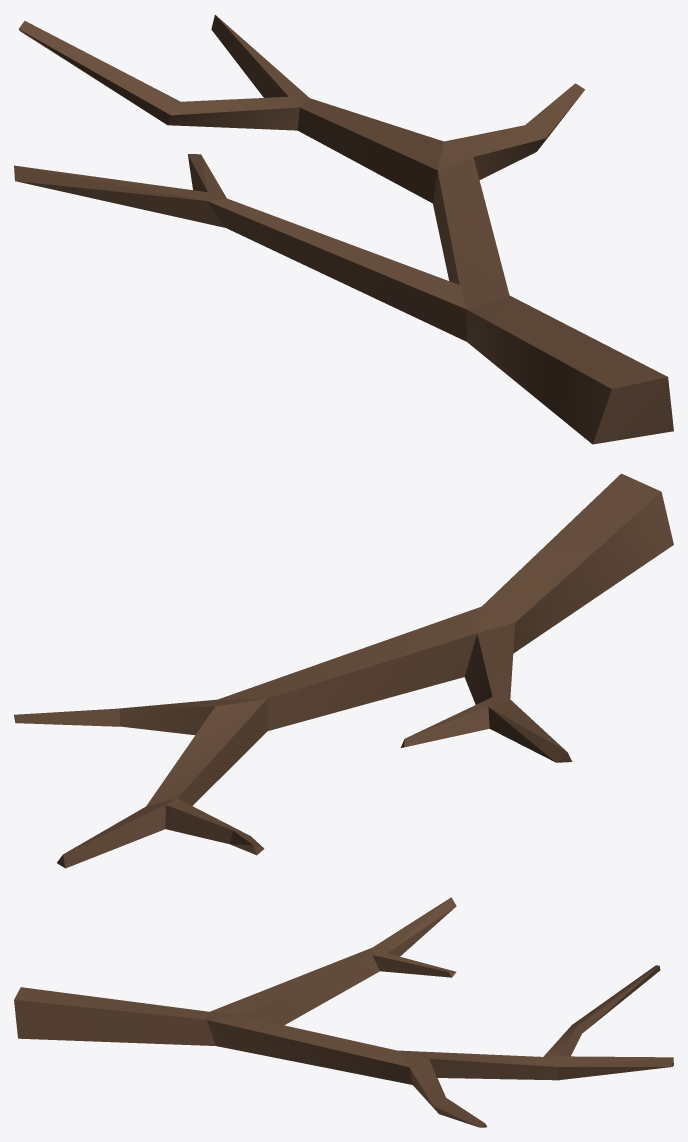
Rendered from BranchA.fbx.
3 renders of one model, top to bottom at view 1: azimuth 30°, elevation 25°; view 2: azimuth 150°, elevation 25°; view 3: azimuth 270°, elevation 25°, orthographic. The views are drawn at different scales.
Parts seen in each view (by area): view 1: BranchA; view 2: BranchA; view 3: BranchA.
Boxes of the visible parts, <box> form: BranchA: <box>14,15,673,444</box>; BranchA: <box>14,473,673,868</box>; BranchA: <box>14,897,673,1127</box>.
Bounding box in the file's own units: 108 × 19.47 × 169.
